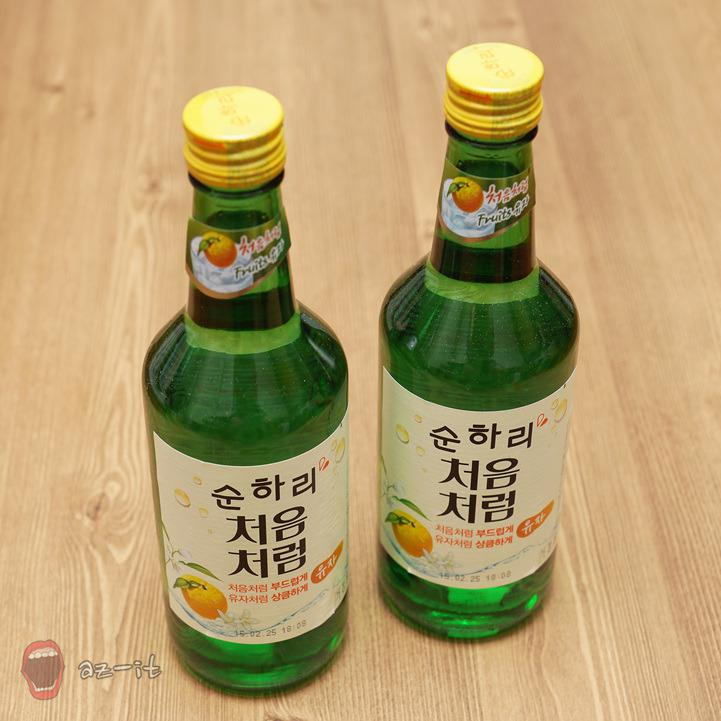soju: (137, 35, 588, 697)
